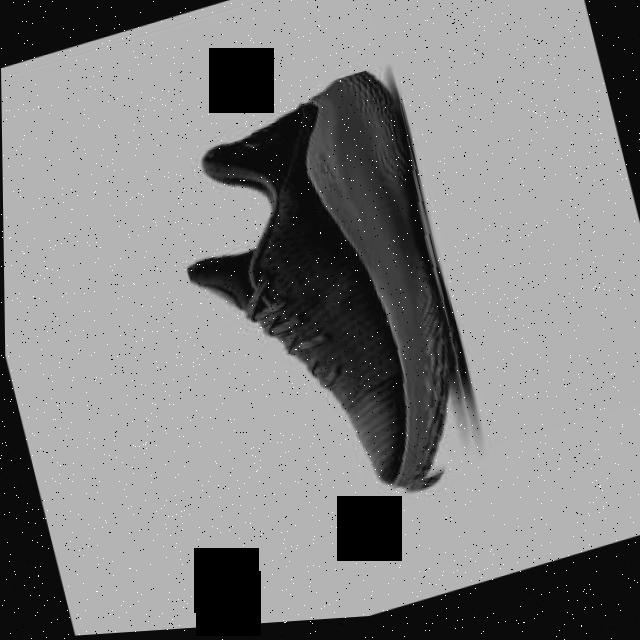shoe: (152, 63, 491, 545)
